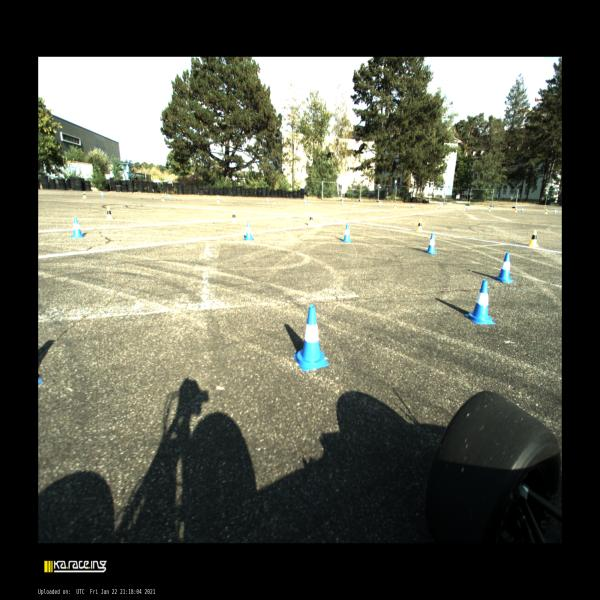blue_cone: (293, 306, 329, 372), (465, 280, 496, 324), (492, 252, 514, 283), (69, 217, 84, 238), (426, 234, 437, 254), (342, 224, 352, 242), (244, 222, 254, 240), (101, 191, 104, 197), (168, 194, 170, 200), (341, 201, 344, 205), (304, 199, 306, 204), (521, 208, 523, 212), (554, 209, 556, 213), (412, 203, 414, 207), (440, 205, 442, 209), (379, 202, 381, 206), (266, 198, 268, 202), (466, 206, 468, 209)
yellow_cone: (528, 230, 538, 246), (106, 206, 114, 220), (416, 220, 423, 232), (231, 211, 237, 224), (308, 214, 314, 227), (82, 192, 87, 199), (161, 195, 165, 201), (217, 196, 220, 203), (488, 207, 491, 211), (545, 209, 547, 214), (273, 199, 275, 204), (352, 202, 354, 207), (308, 201, 310, 206), (514, 208, 516, 212), (463, 206, 465, 210), (394, 204, 396, 208), (434, 205, 436, 209)
